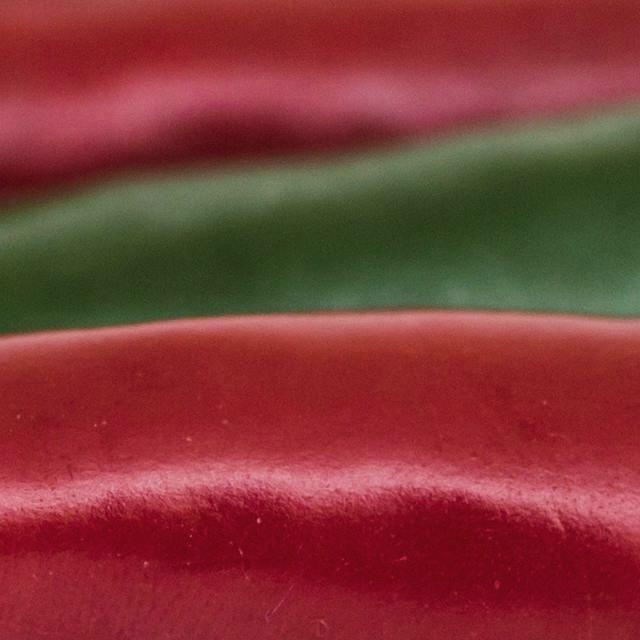chili_pepper: (0, 331, 640, 640), (0, 0, 640, 306), (0, 0, 640, 156)
